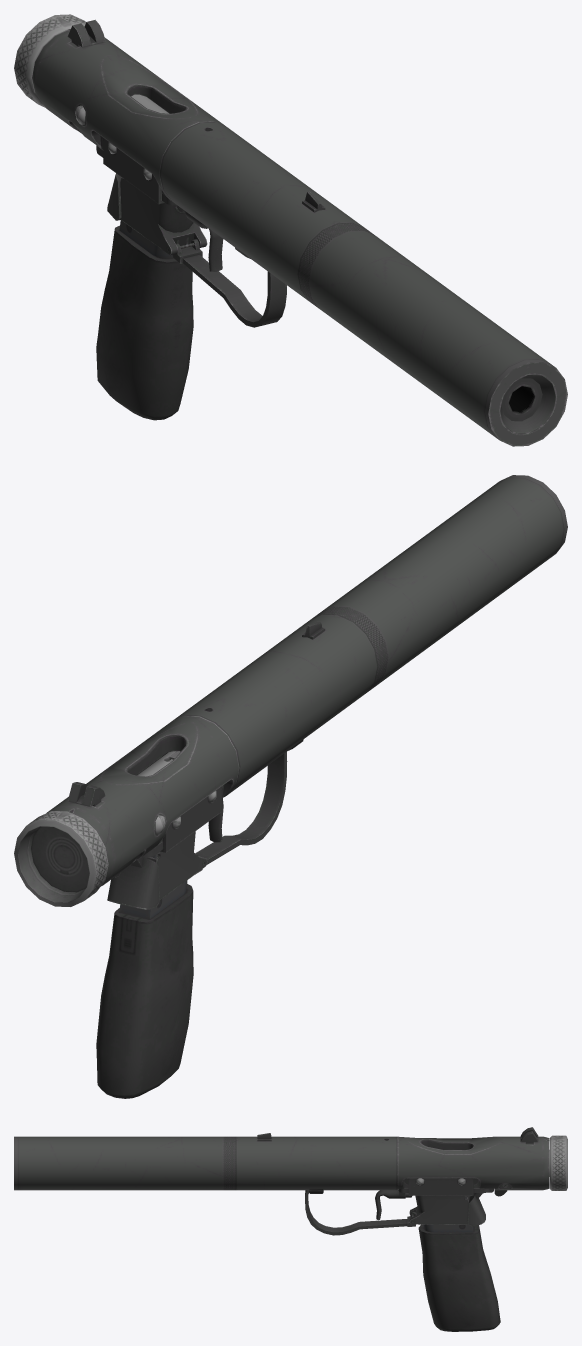
File: raw.glb
The picture shows the model from 3 angles, top to bottom: view 1: azimuth 30°, elevation 25°; view 2: azimuth 150°, elevation 25°; view 3: azimuth 270°, elevation 25°; orthographic projection. The views are drawn at different scales.
Visible parts, largest first — view 1: welrod_LOD0; view 2: welrod_LOD0; view 3: welrod_LOD0.
Part boxes in pixels (x1,y1,x2,y2): welrod_LOD0: (14,14,567,446); welrod_LOD0: (14,475,567,1098); welrod_LOD0: (14,1127,567,1331).
Bounding box in the file's own units: 0.0319 × 0.1222 × 0.308.
Materials: 1 (1 with a texture image).
